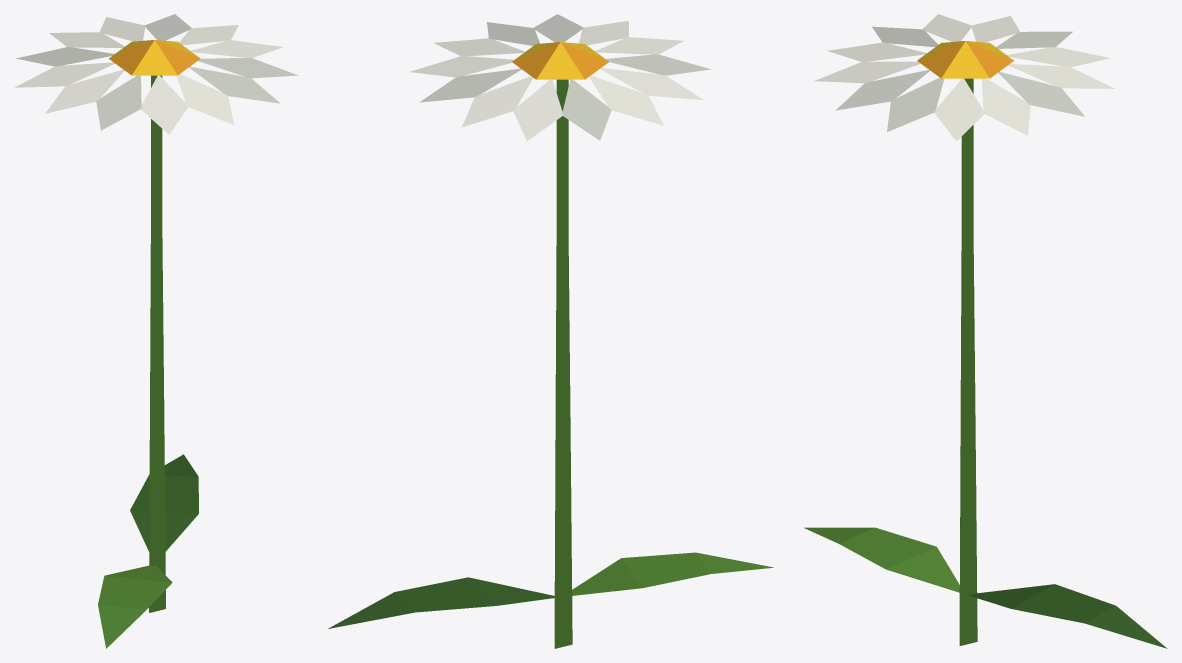
File: daisy.fbx
3 views of the same model, side by side, from view 1: azimuth 30°, elevation 25°; view 2: azimuth 150°, elevation 25°; view 3: azimuth 270°, elevation 25° (orthographic). The views are drawn at different scales.
Parts seen in each view (by area): view 1: daisy; view 2: daisy; view 3: daisy.
Boxes of the visible parts, x1,y1,x2,y2 form: daisy: [15, 14, 298, 648]; daisy: [328, 14, 773, 648]; daisy: [804, 14, 1167, 648].
Size of the model in its own units: 19.04 by 41.37 by 22.75.
Materials: 1 (1 with a texture image).
